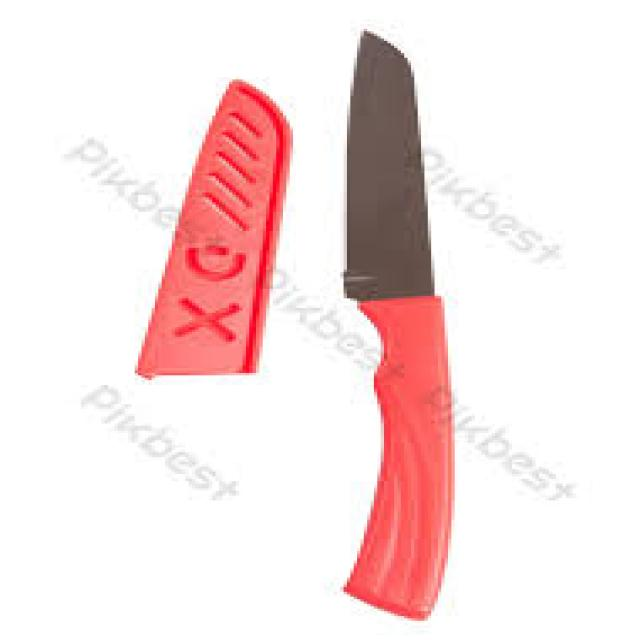Knife: (340, 29, 455, 621)
